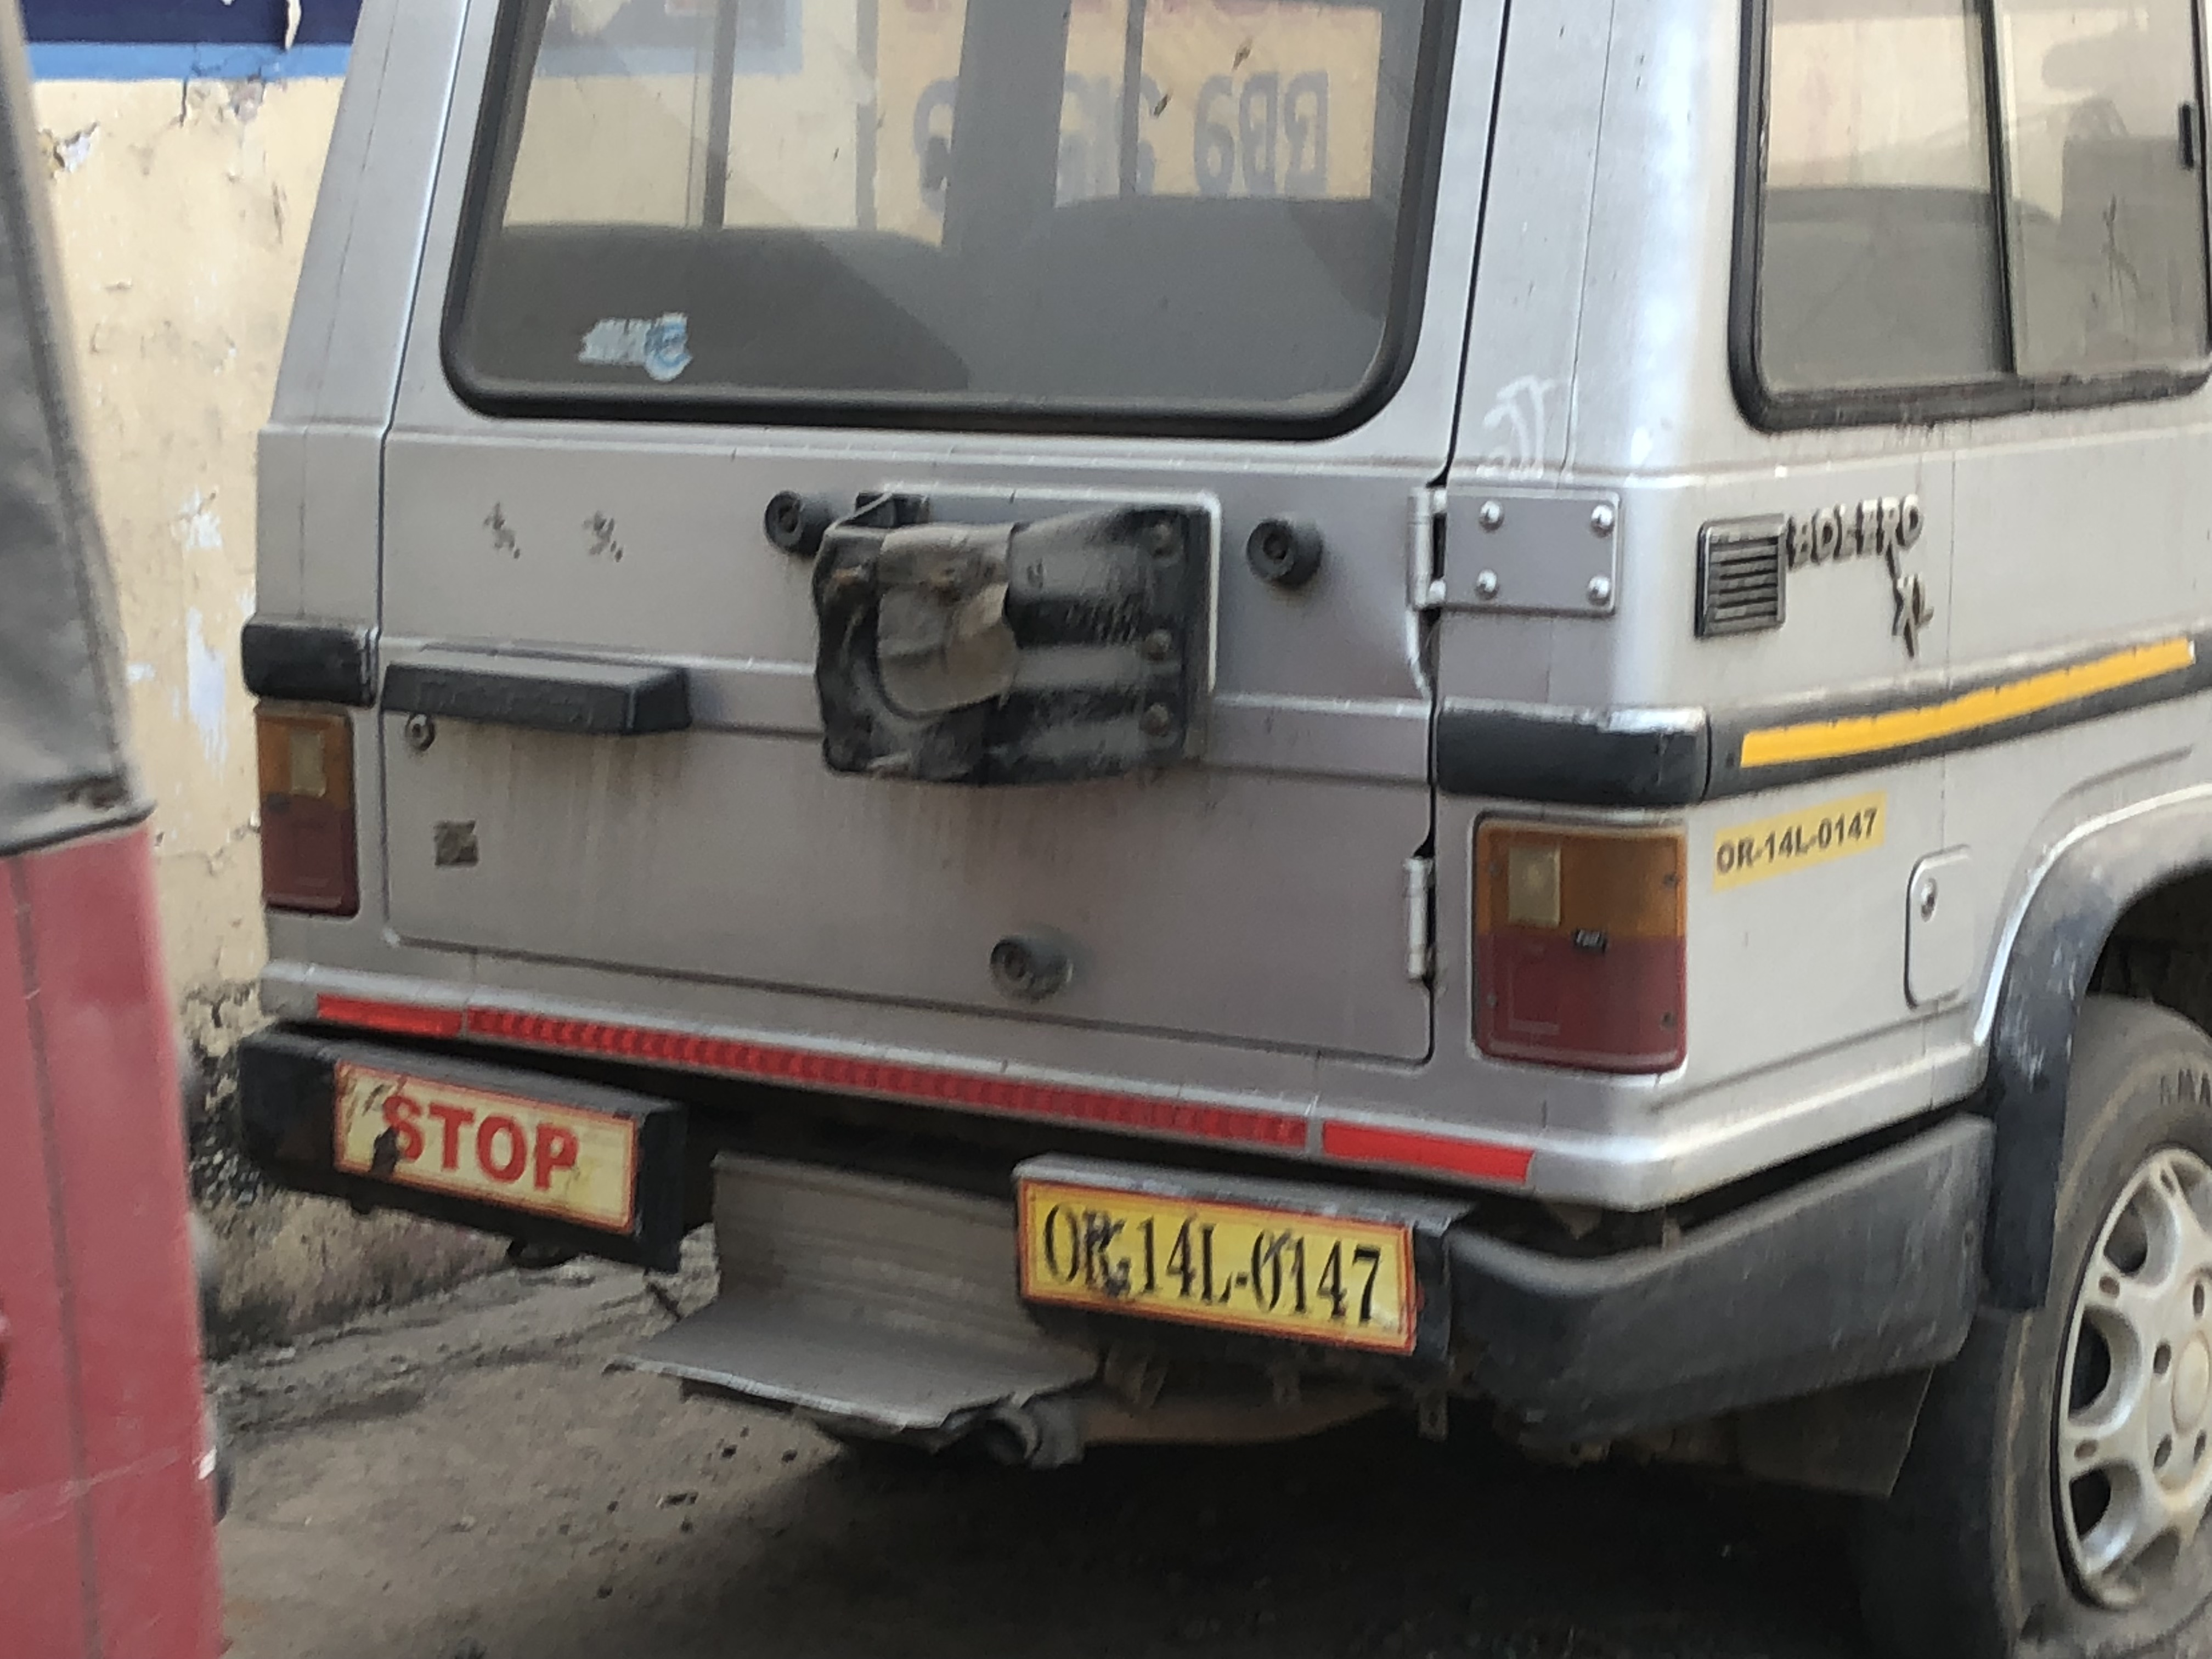licenseplate: (1008, 1159, 1424, 1361)
